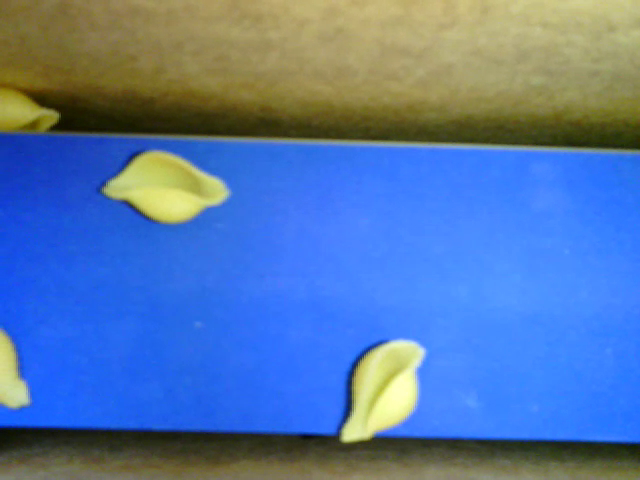shell: (95, 143, 234, 225), (334, 336, 424, 444), (1, 83, 59, 135), (1, 328, 35, 414)
